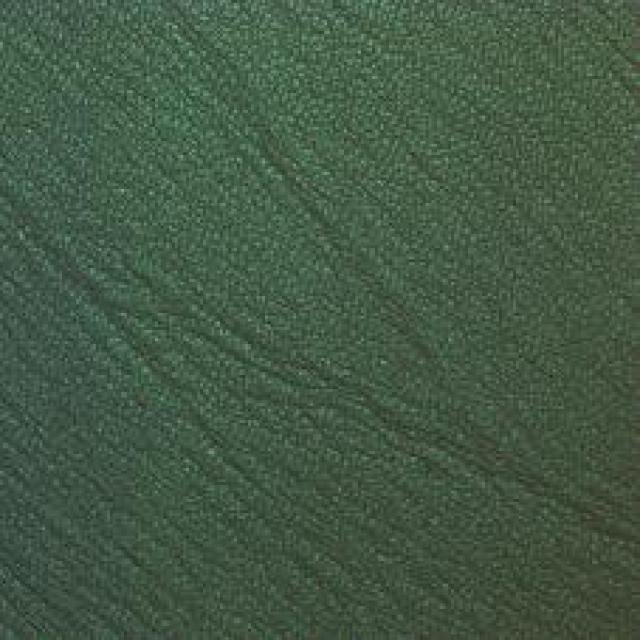Growth Marks: (363, 374, 622, 555), (74, 263, 336, 438)
